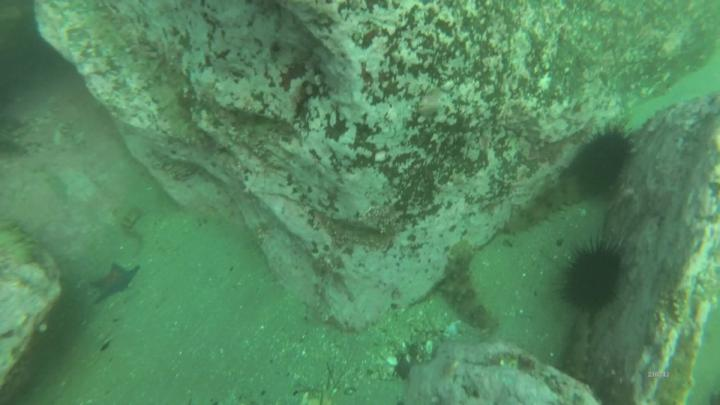echinus: (559, 240, 629, 317), (573, 124, 632, 205)
holothurian: (444, 247, 501, 335), (1, 221, 36, 264)
starfish: (88, 260, 142, 306)
